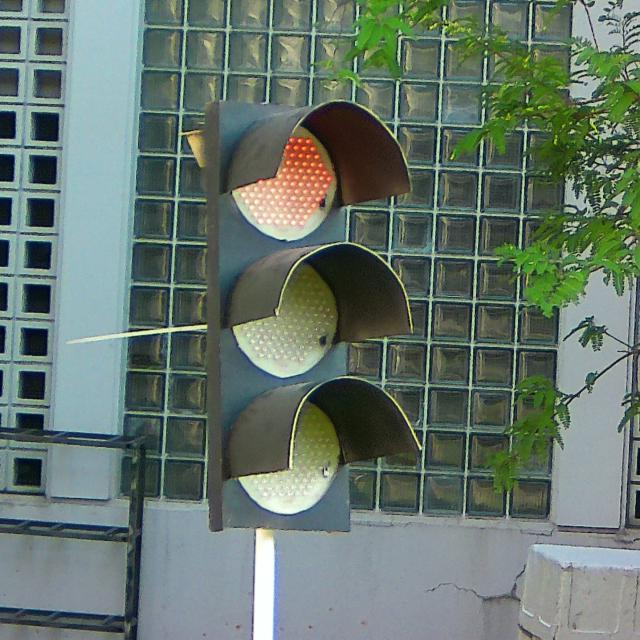Lampu Merah: (208, 102, 388, 533)
